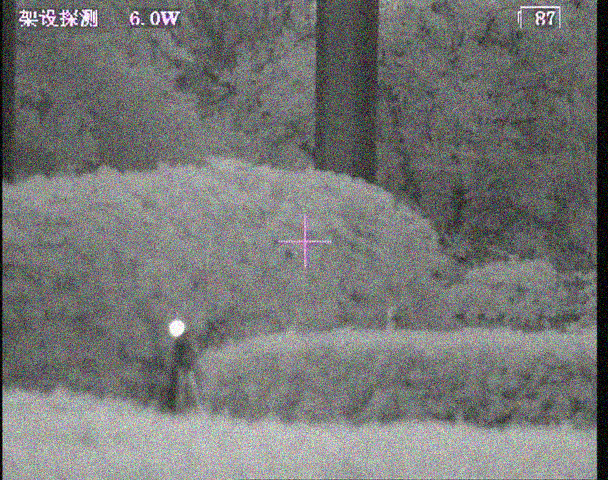my: (167, 318, 185, 337)
